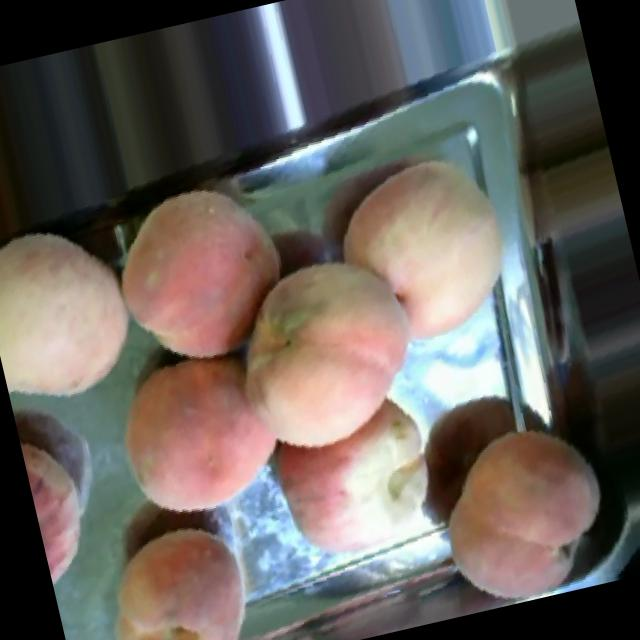Fruit: (215, 228, 450, 478), (309, 134, 536, 368), (248, 361, 476, 586), (94, 166, 316, 390), (414, 395, 635, 617), (86, 328, 292, 544), (0, 201, 161, 425), (76, 499, 276, 640), (15, 408, 119, 614)
